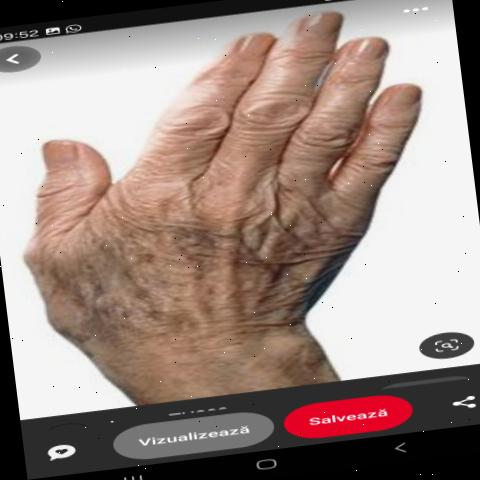hands: (0, 0, 457, 406)
